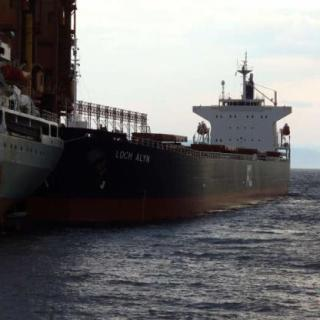Bulk Carrier: (6, 21, 292, 217)
